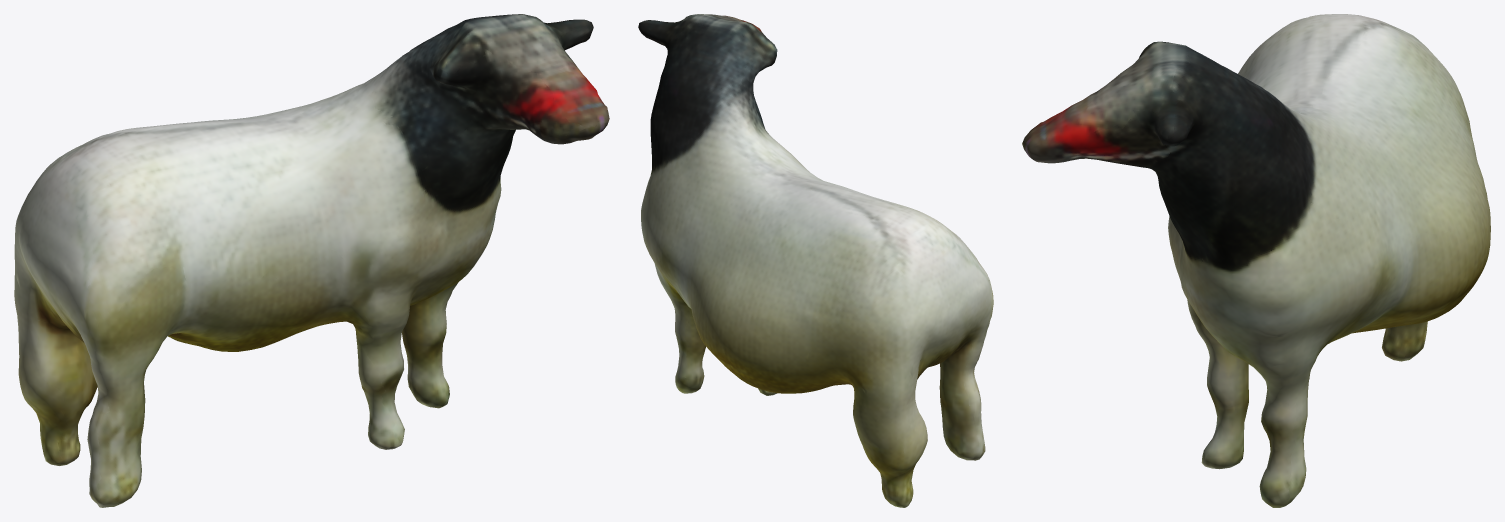
File: adulto.glb
The picture shows the model from 3 angles, left to right: view 1: azimuth 30°, elevation 25°; view 2: azimuth 150°, elevation 25°; view 3: azimuth 270°, elevation 25°; orthographic projection. The views are drawn at different scales.
Visible parts, largest first — view 1: mesh; view 2: mesh; view 3: mesh.
Boxes of the visible parts, x1,y1,x2,y2 form: mesh: [14, 14, 609, 507]; mesh: [638, 14, 993, 507]; mesh: [1022, 14, 1490, 507].
Size of the model in its own units: 1.52 by 1.35 by 1.2.
1 material, 1 textured.
